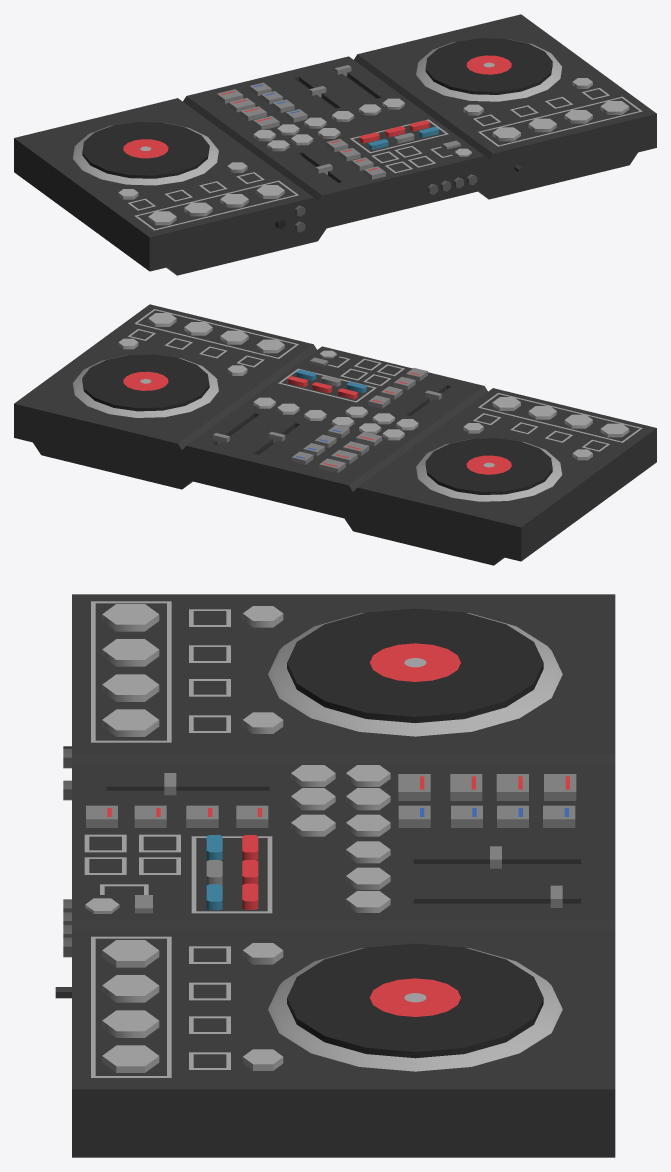
Rendered from DJMixer_01.fbx.
3 views of the same model, one above another, from view 1: azimuth 30°, elevation 25°; view 2: azimuth 150°, elevation 25°; view 3: azimuth 270°, elevation 25° (orthographic). The views are drawn at different scales.
Visible parts, largest first — view 1: DJMixer_01; view 2: DJMixer_01; view 3: DJMixer_01.
Boxes of the visible parts, x1,y1,x2,y2 form: DJMixer_01: (14,14,656,275); DJMixer_01: (14,304,656,565); DJMixer_01: (55,594,615,1157).
Size of the model in its own units: 0.9437 by 0.0902 by 0.4507.
